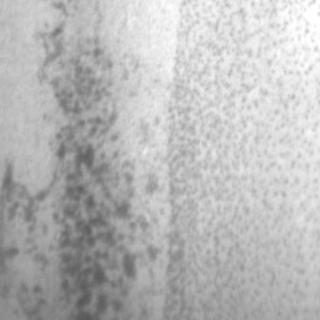pitted_surface: (162, 0, 316, 318), (2, 0, 150, 316)
